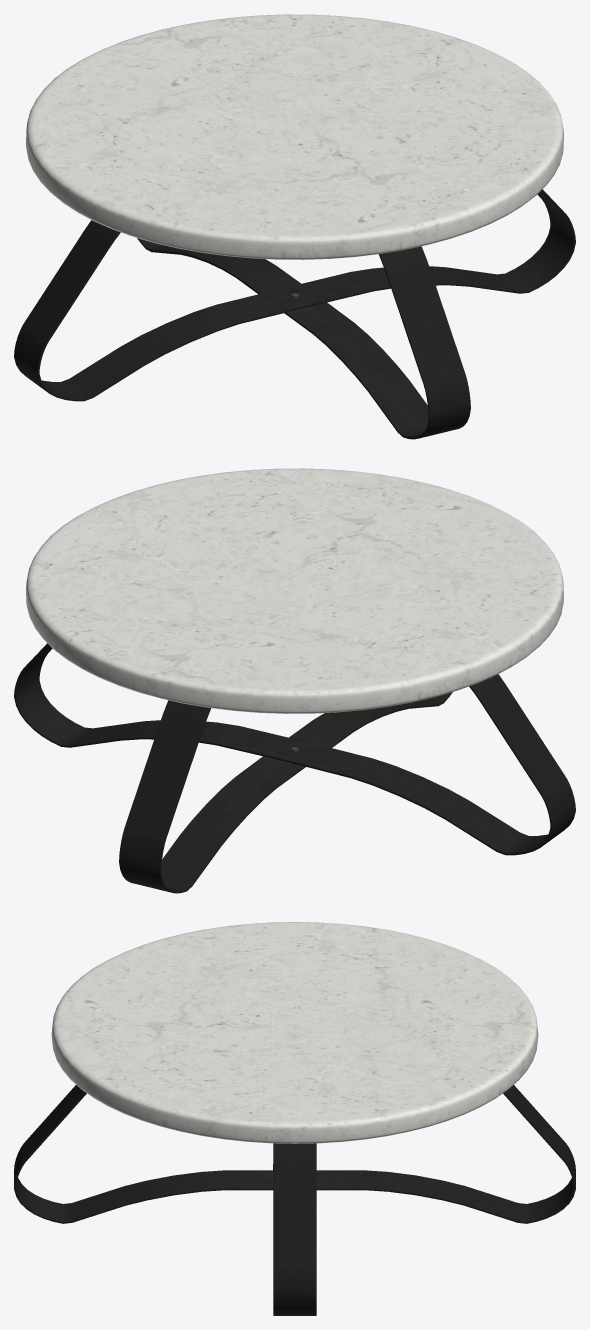
File: white-stone.glb
The picture shows the model from 3 angles, top to bottom: view 1: azimuth 30°, elevation 25°; view 2: azimuth 150°, elevation 25°; view 3: azimuth 270°, elevation 25°; orthographic projection. The views are drawn at different scales.
Parts seen in each view (by area): view 1: coffee_table_round_01; view 2: coffee_table_round_01; view 3: coffee_table_round_01.
Boxes of the visible parts, <box> form: coffee_table_round_01: <box>14,14,575,439</box>; coffee_table_round_01: <box>14,468,575,893</box>; coffee_table_round_01: <box>14,922,575,1315</box>.
Size of the model in its own units: 1.3 by 0.491 by 1.3.
1 material, 1 textured.
